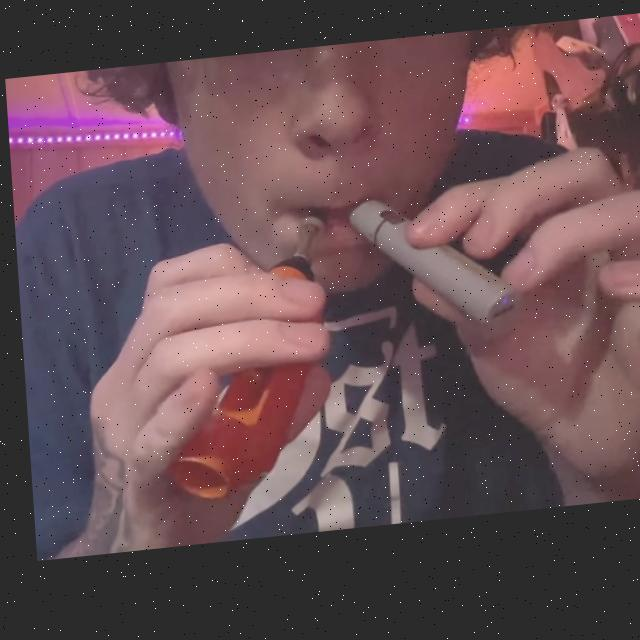vape: (148, 214, 340, 507), (335, 194, 518, 357)
